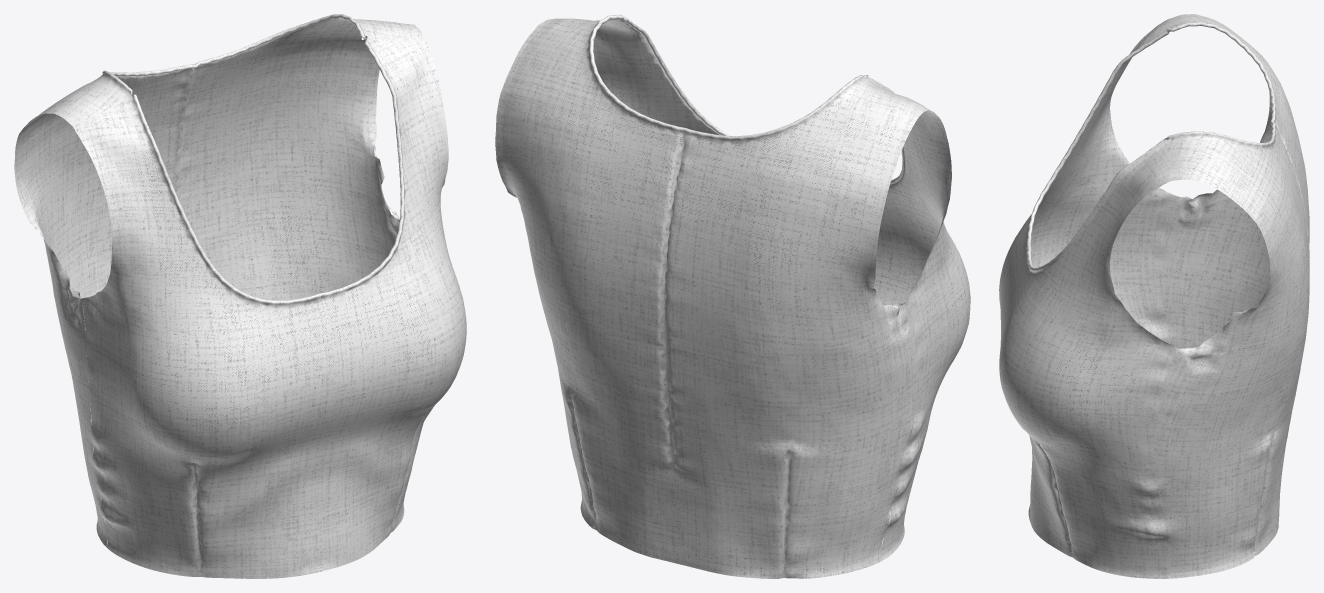
File: obbj.obj
3 renders of one model, left to right at view 1: azimuth 30°, elevation 25°; view 2: azimuth 150°, elevation 25°; view 3: azimuth 270°, elevation 25°, orthographic. The views are drawn at different scales.
Size of the model in its own units: 305 by 364 by 234.
1 material, 1 textured.
